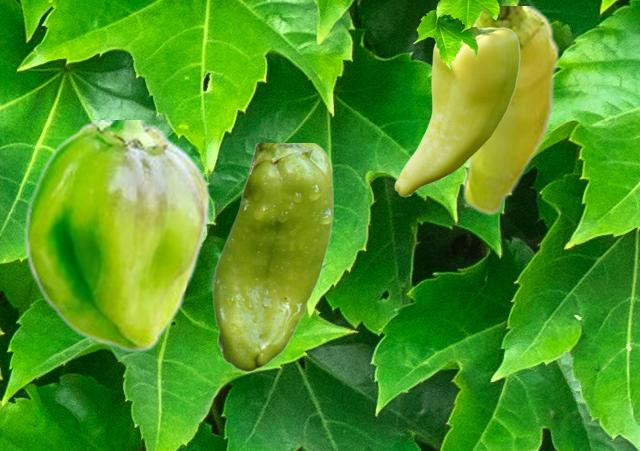green_chili: (24, 120, 210, 352), (212, 143, 332, 371), (394, 27, 519, 196), (461, 6, 559, 215)
